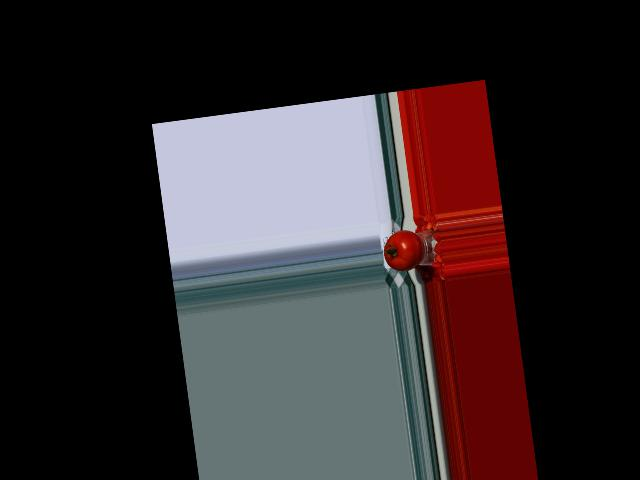tomato: (381, 227, 425, 273)
